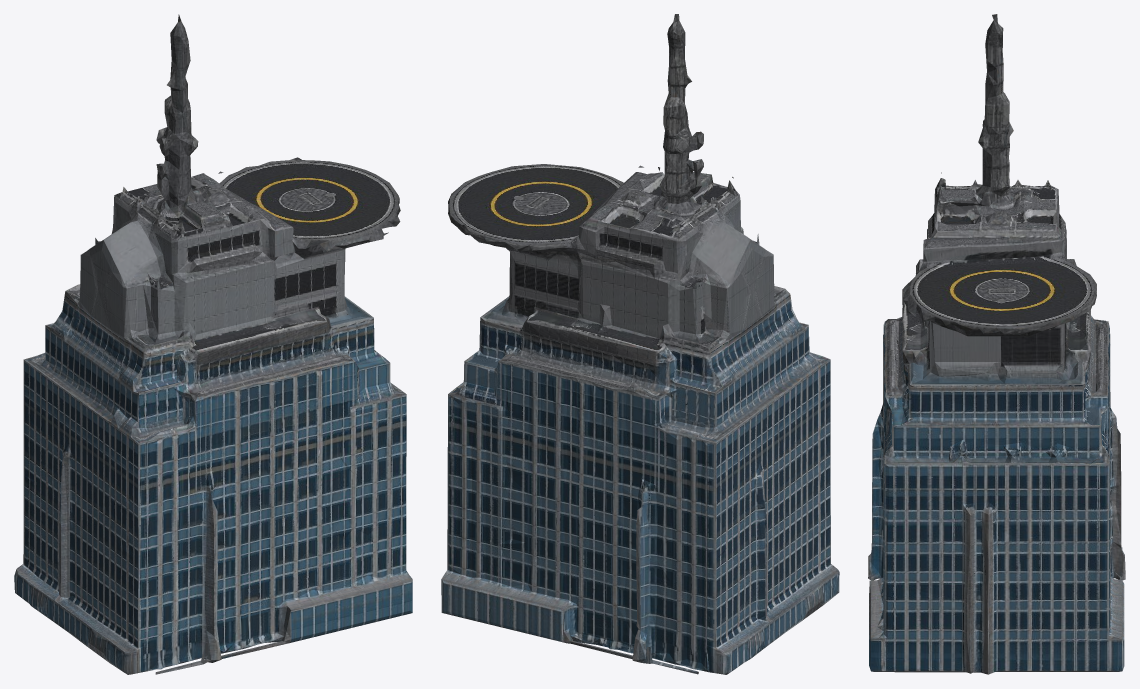
The model's file is tower-roof.glb.
3 renders of one model, left to right at view 1: azimuth 30°, elevation 25°; view 2: azimuth 150°, elevation 25°; view 3: azimuth 270°, elevation 25°, orthographic. The views are drawn at different scales.
Visible parts, largest first — view 1: Mesh_0.001; view 2: Mesh_0.001; view 3: Mesh_0.001.
Boxes of the visible parts, x1,y1,x2,y2 form: Mesh_0.001: [14, 14, 412, 674]; Mesh_0.001: [441, 14, 839, 674]; Mesh_0.001: [868, 14, 1125, 674].
Size of the model in its own units: 1 by 1.76 by 0.7078.
Materials: 1 (1 with a texture image).
